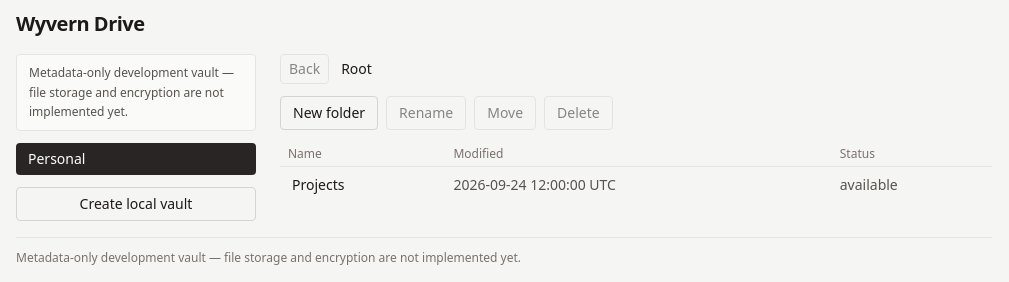
Test: nested navigation and back › double-clicks into a folder, shows the trail, and goes back
Step 1. Click the button "Projects" → [318, 185], box [288,173,348,197]
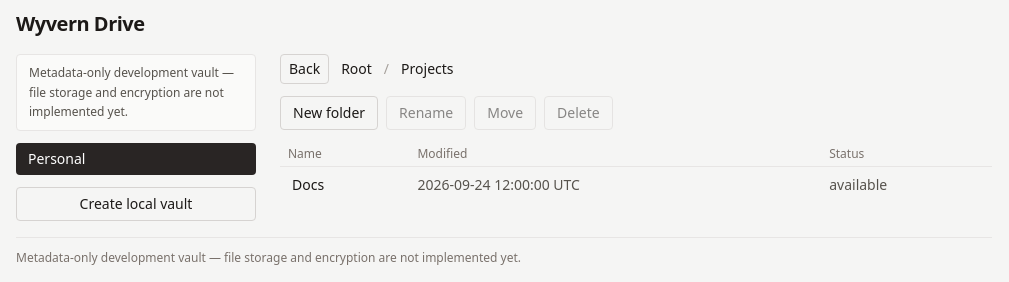
Expected: the button "Docs" is shown, [288,173,328,197]
Expected: the navigation bar named "Folder path" shows "Projects", [393,55,462,83]
Step 2. Click the button "Back" → [305, 69], box [280,54,329,84]
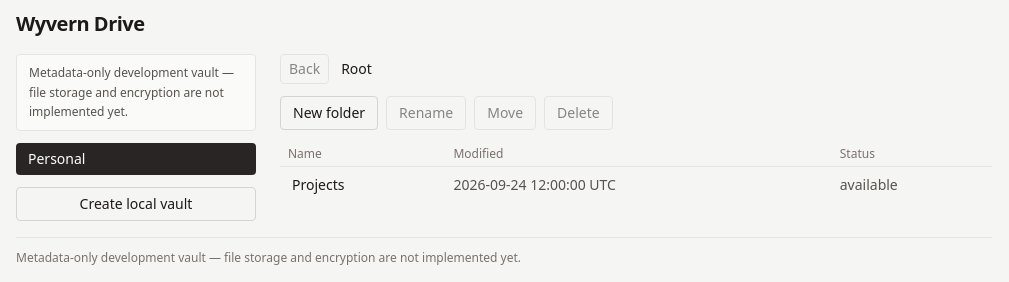
Expected: the button "Projects" is shown, [288,173,348,197]
Expected: the button "Docs" is gone
